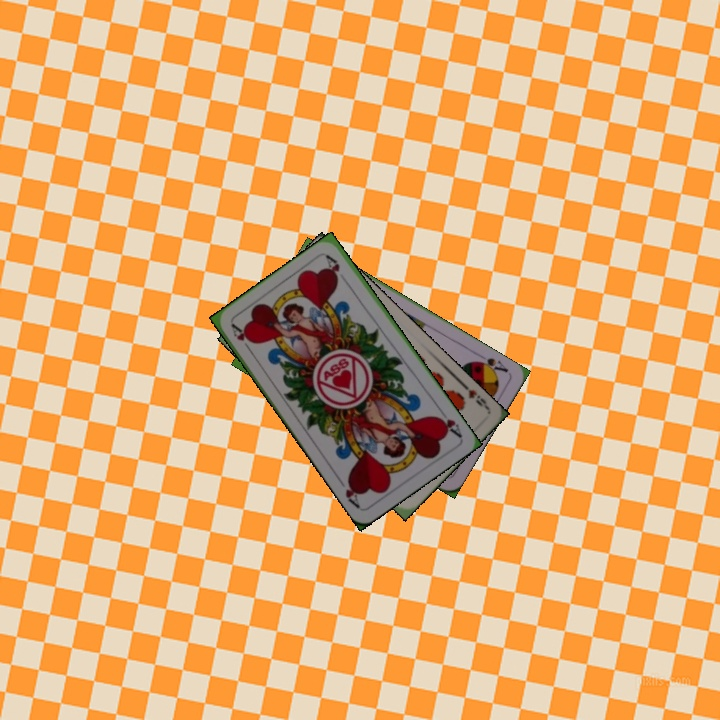H9: (458, 379, 491, 411)
HA: (432, 404, 464, 440), (227, 320, 256, 356)
SA: (471, 353, 511, 377)
